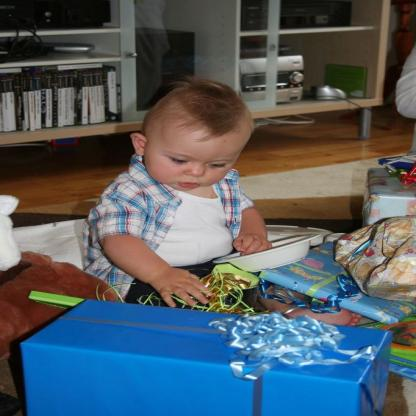book: (106, 64, 119, 119)
